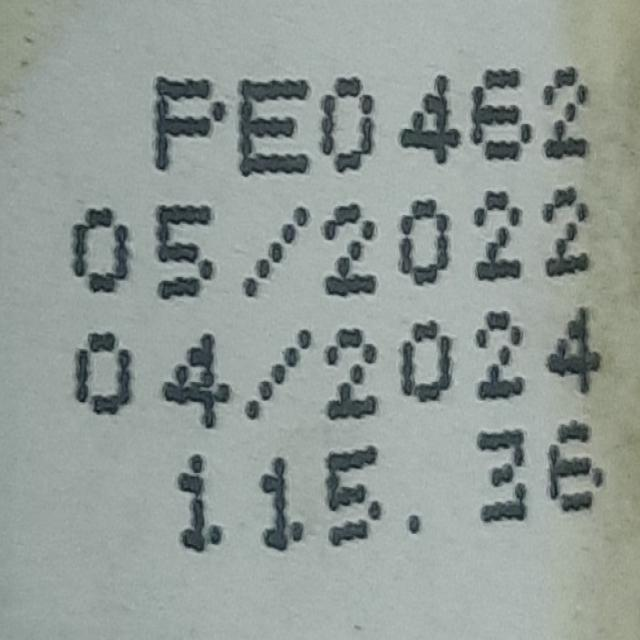sentence: (74, 309, 600, 433), (71, 187, 590, 298), (171, 420, 605, 552), (154, 68, 589, 176)
